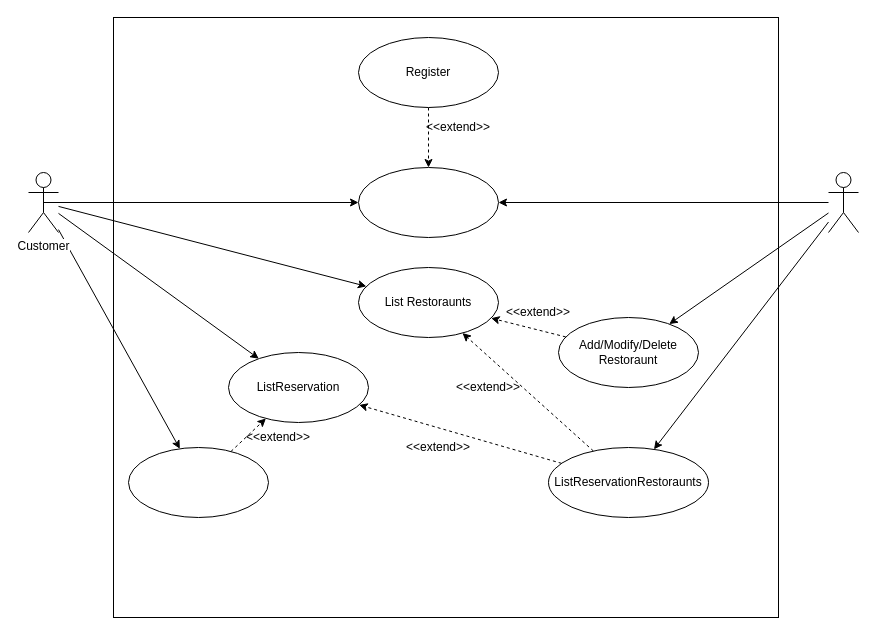
This 892x635 diagram has some shape labels left out. Here are the shapes that lost their labels. From the top down, the centre of each, then its label:
At point 428,202: "Login/Logout".
At point 843,202: "Restorateur".
At point 198,482: "Add/Modify/Delete Reservation".
